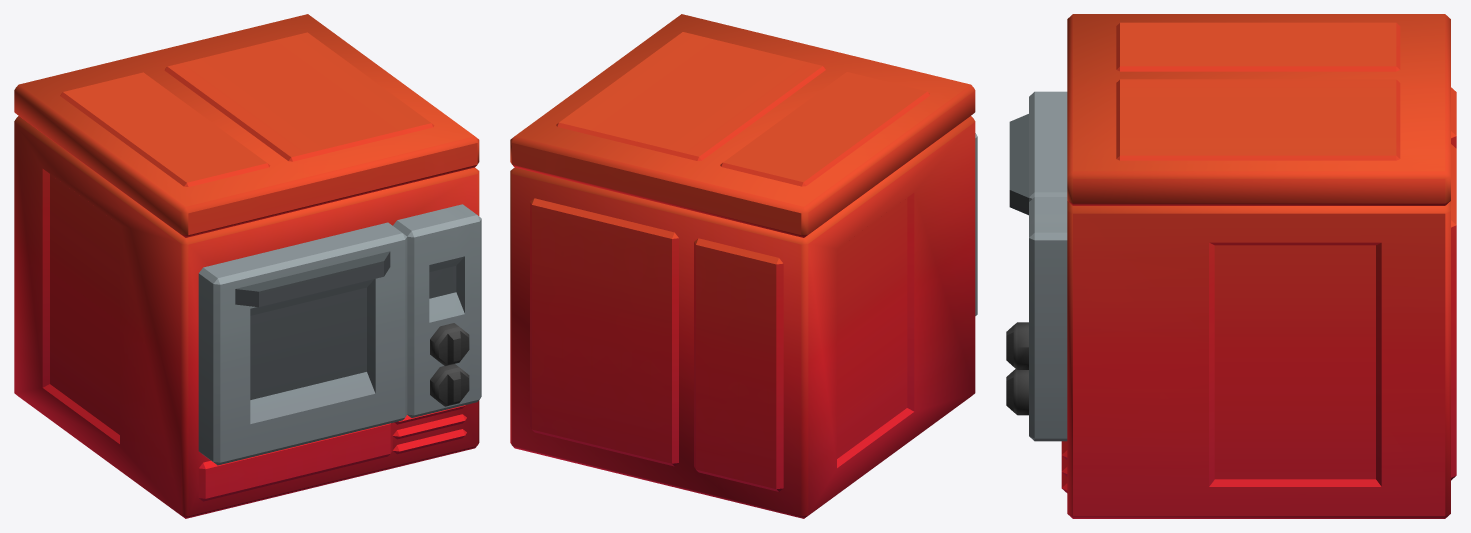
The model's file is oven.glb.
3 renders of one model, left to right at view 1: azimuth 30°, elevation 25°; view 2: azimuth 150°, elevation 25°; view 3: azimuth 270°, elevation 25°, orthographic. The views are drawn at different scales.
Parts seen in each view (by area): view 1: oven; view 2: oven; view 3: oven.
Part boxes in pixels (bbox=[...]): oven: bbox=[14, 14, 481, 518]; oven: bbox=[510, 14, 977, 518]; oven: bbox=[1006, 14, 1456, 518].
Size of the model in its own units: 2 by 2.02 by 2.35.
1 material, 1 textured.
